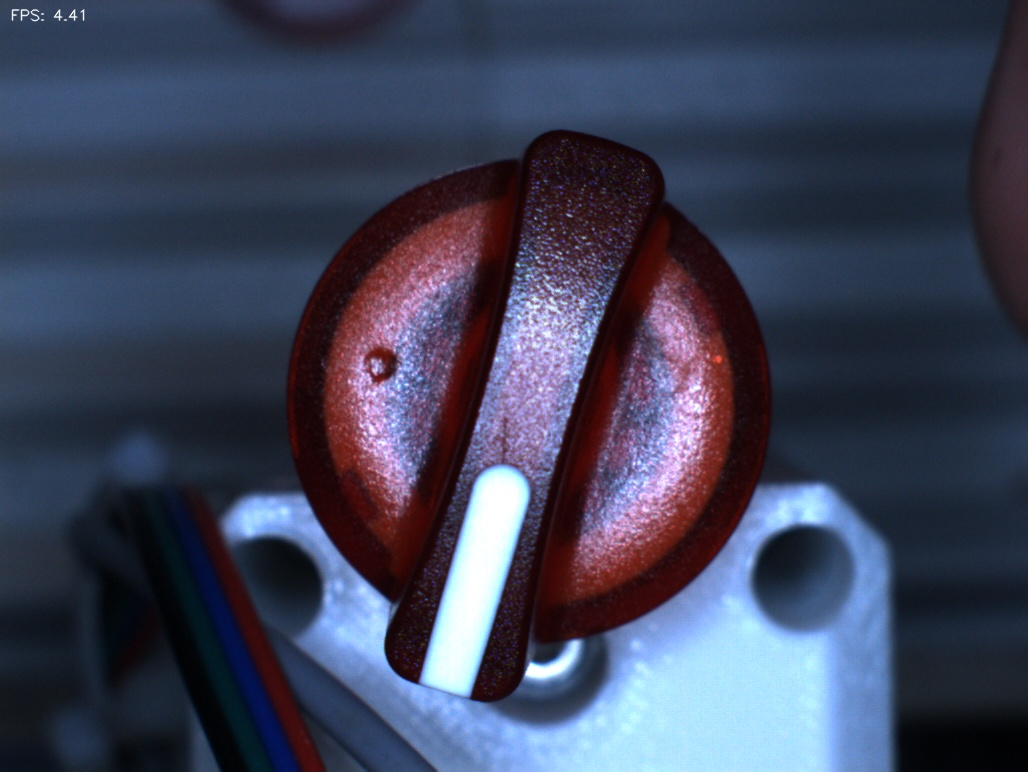Choc: (336, 324, 422, 410)
